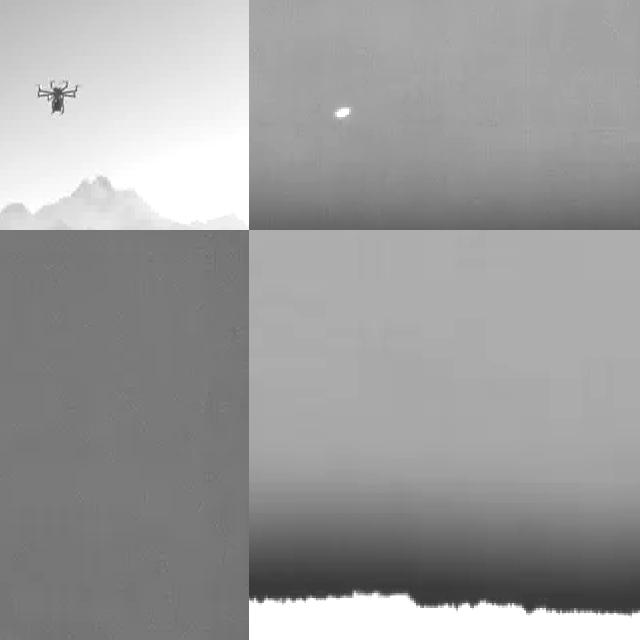1: (327, 101, 363, 131)
drone: (34, 72, 82, 121)
